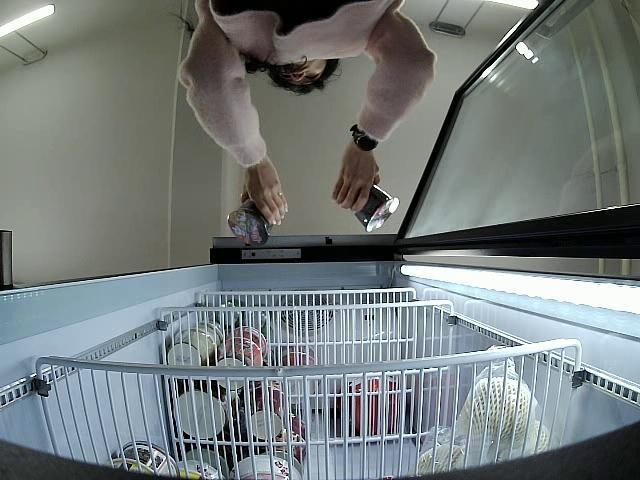08_buldak_S: (346, 186, 400, 232), (228, 198, 272, 246)
